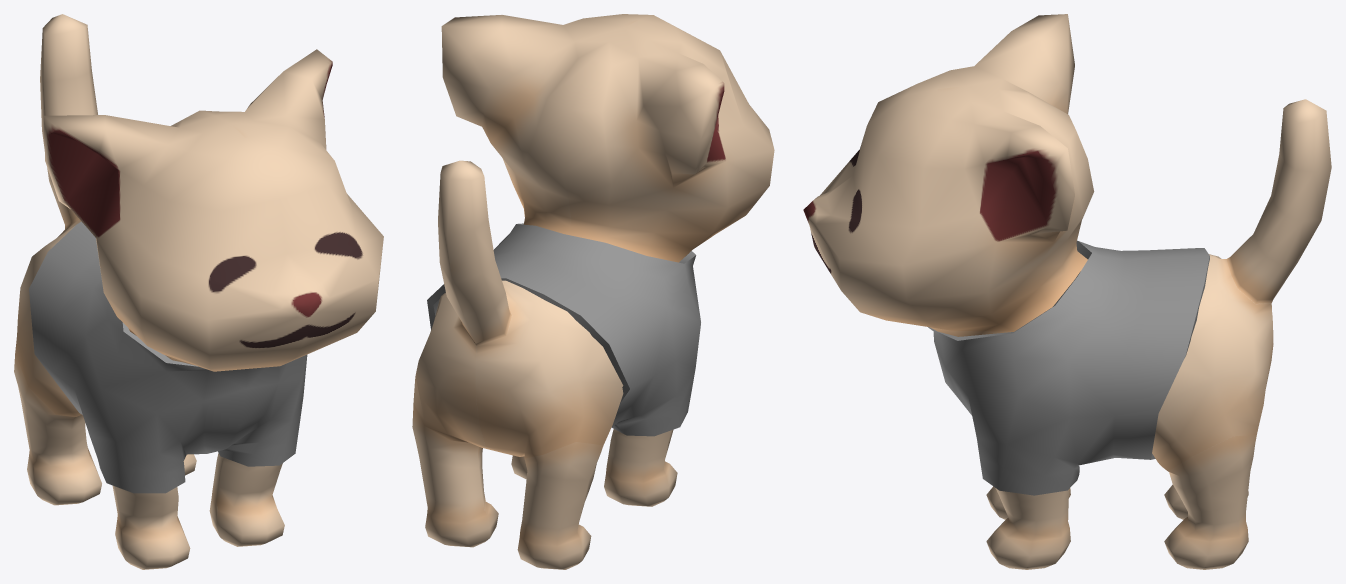
The model's file is USG Cat01.fbx.
The picture shows the model from 3 angles, left to right: view 1: azimuth 30°, elevation 25°; view 2: azimuth 150°, elevation 25°; view 3: azimuth 270°, elevation 25°; orthographic projection. The views are drawn at different scales.
Visible parts, largest first — view 1: Cat_Base, tshirt001; view 2: Cat_Base, tshirt001; view 3: Cat_Base, tshirt001.
Part boxes in pixels (bbox=[...]): Cat_Base: bbox=[14, 14, 383, 569]; tshirt001: bbox=[29, 221, 307, 493]; Cat_Base: bbox=[412, 14, 774, 569]; tshirt001: bbox=[427, 223, 700, 436]; Cat_Base: bbox=[803, 14, 1331, 569]; tshirt001: bbox=[928, 240, 1209, 495].
Bounding box in the file's own units: 1.75 × 2.83 × 2.68.
2 materials, 1 textured.
